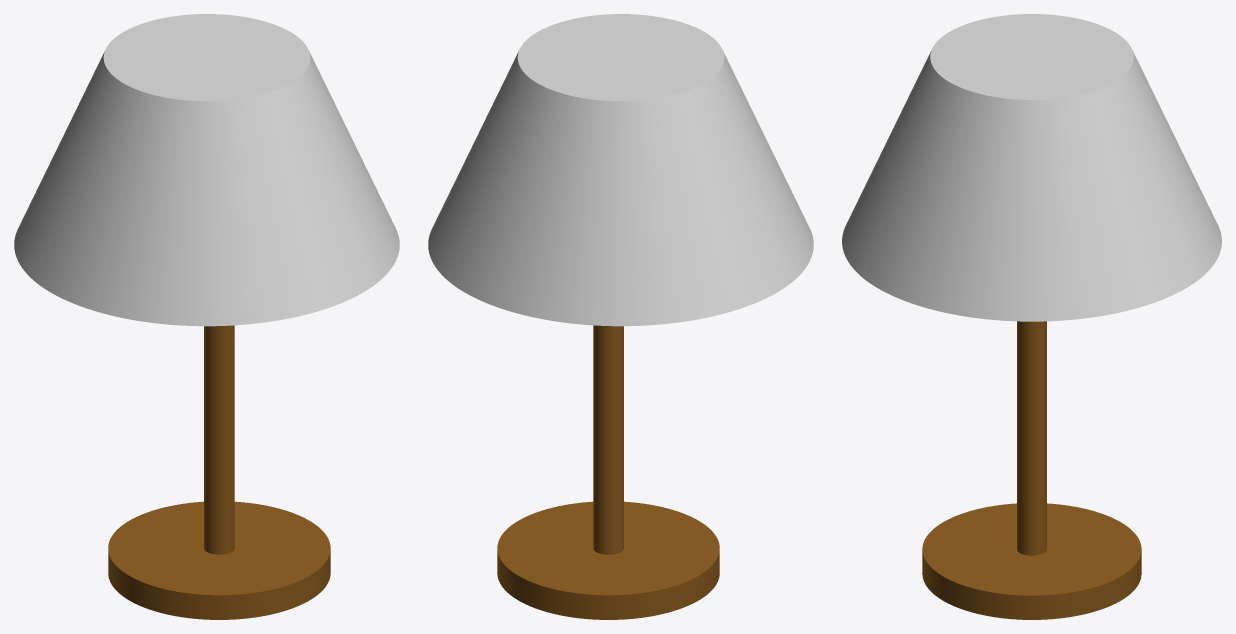
Rendered from Lamp01.fbx.
3 views of the same model, side by side, from view 1: azimuth 30°, elevation 25°; view 2: azimuth 150°, elevation 25°; view 3: azimuth 270°, elevation 25° (orthographic).
Parts seen in each view (by area): view 1: Lamp01; view 2: Lamp01; view 3: Lamp01.
Boxes of the visible parts, box(x1,y1,x2,y2) form: Lamp01: box(14, 14, 399, 619); Lamp01: box(428, 14, 813, 619); Lamp01: box(842, 14, 1221, 619).
Bounding box in the file's own units: 6722 × 9971 × 6722.
